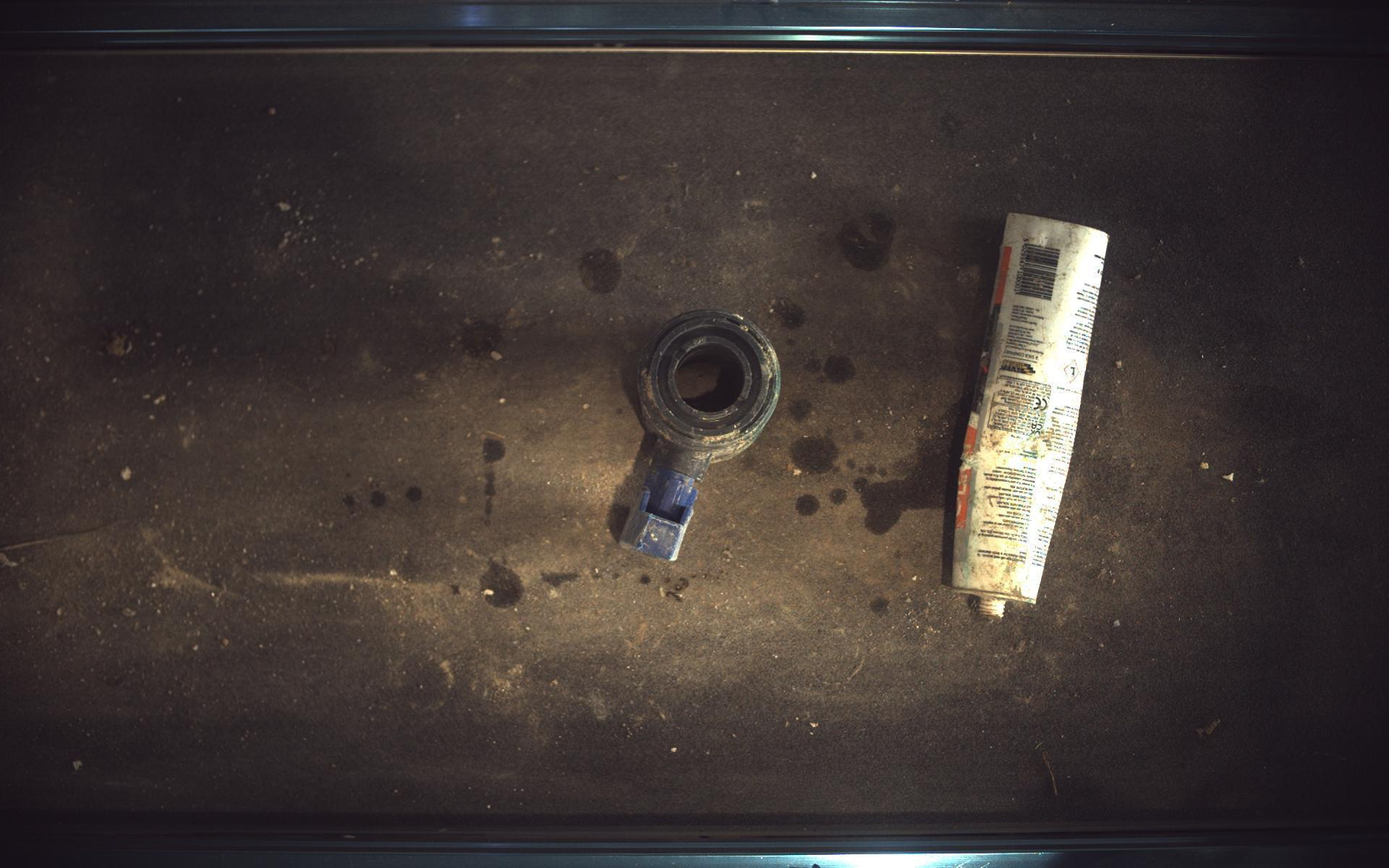plastic: (620, 310, 781, 562)
